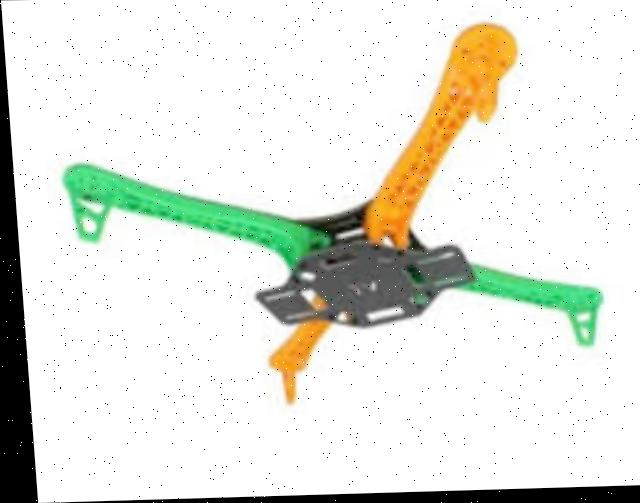drone: (43, 24, 623, 414)
